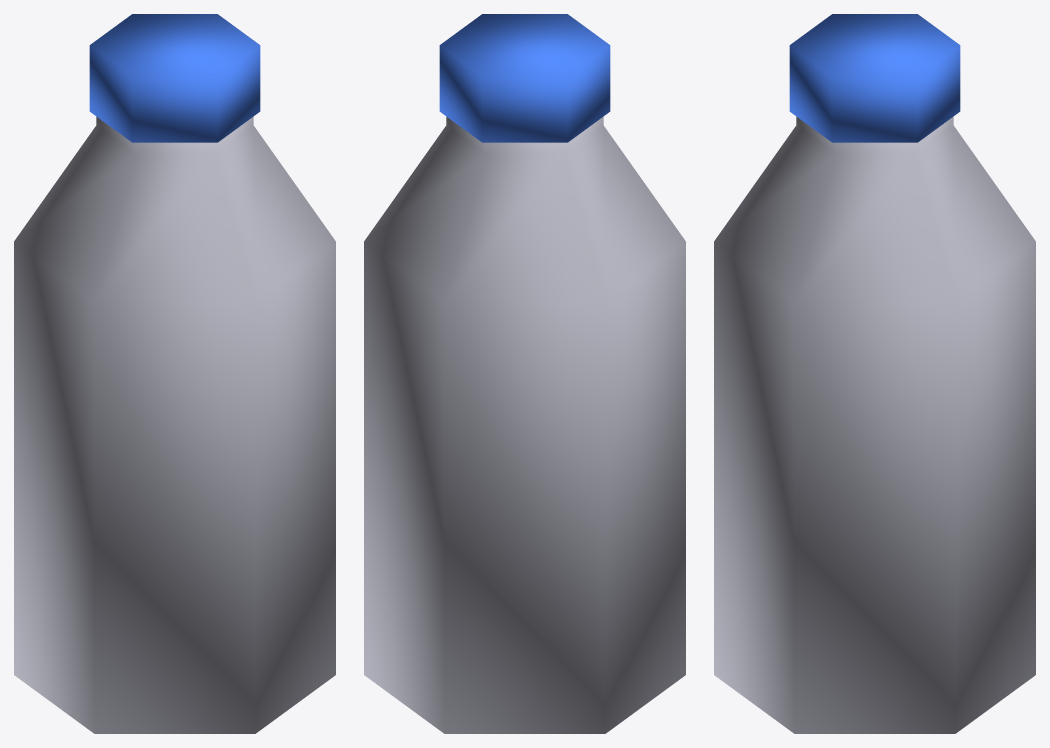
Rendered from Trash-PlasticBottle.fbx.
3 views of the same model, side by side, from view 1: azimuth 30°, elevation 25°; view 2: azimuth 150°, elevation 25°; view 3: azimuth 270°, elevation 25° (orthographic).
Visible parts, largest first — view 1: PlasticBottle; view 2: PlasticBottle; view 3: PlasticBottle.
Boxes of the visible parts, box(x1,y1,x2,y2) form: PlasticBottle: box(14, 14, 335, 733); PlasticBottle: box(364, 14, 685, 733); PlasticBottle: box(714, 14, 1035, 733).
Bounding box in the file's own units: 0.1385 × 0.3454 × 0.1599.
